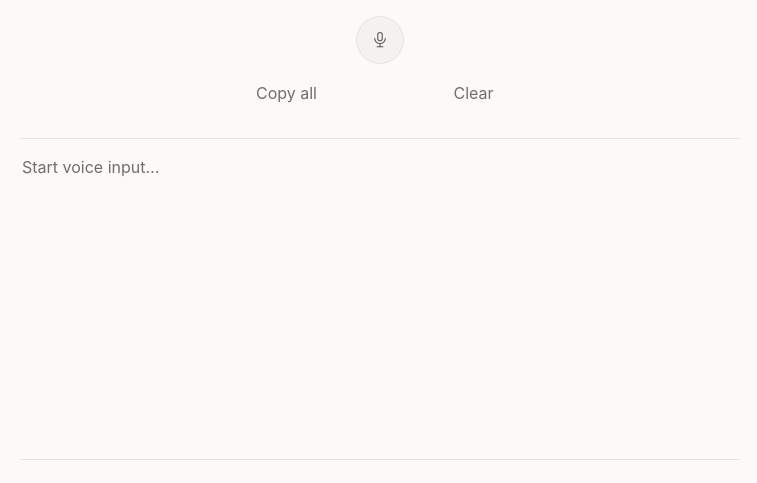
Test: VoiceView › highlights matches and shows snippets like the search menu
Type "spoken words" into the text box with placeholder "Start voice input…" at coordinates (380, 299), box [20, 139, 740, 459]
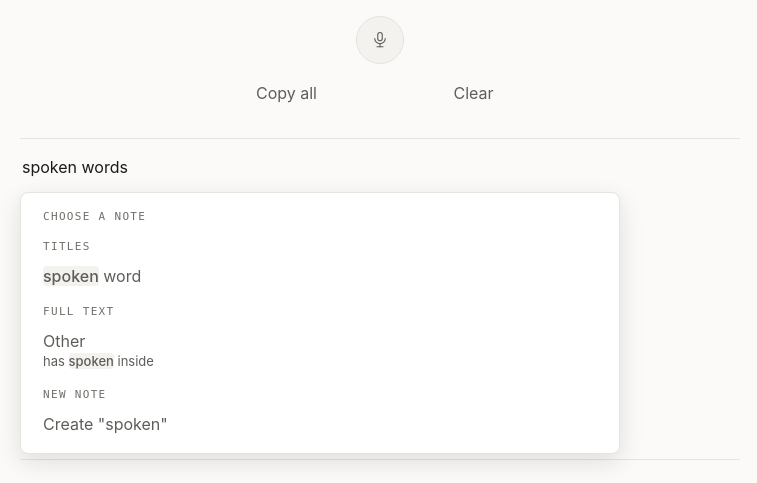
Result: the 1st text with class "search-highlight" is shown at [43, 266, 99, 286]
Result: the element with class "result-snippet" reads "has spoken inside" at [43, 353, 154, 369]
Result: the 2nd text with class "search-highlight" reads "spoken" at [68, 353, 114, 369]
